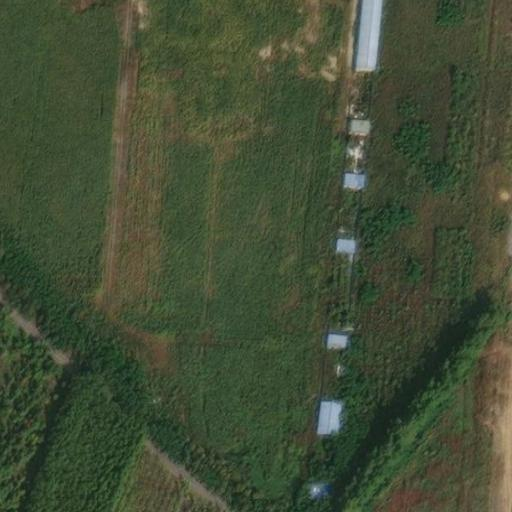building: (314, 394, 342, 430), (304, 477, 332, 501), (323, 327, 350, 349), (331, 234, 357, 255), (341, 169, 366, 189), (345, 116, 369, 135), (342, 139, 364, 159)
